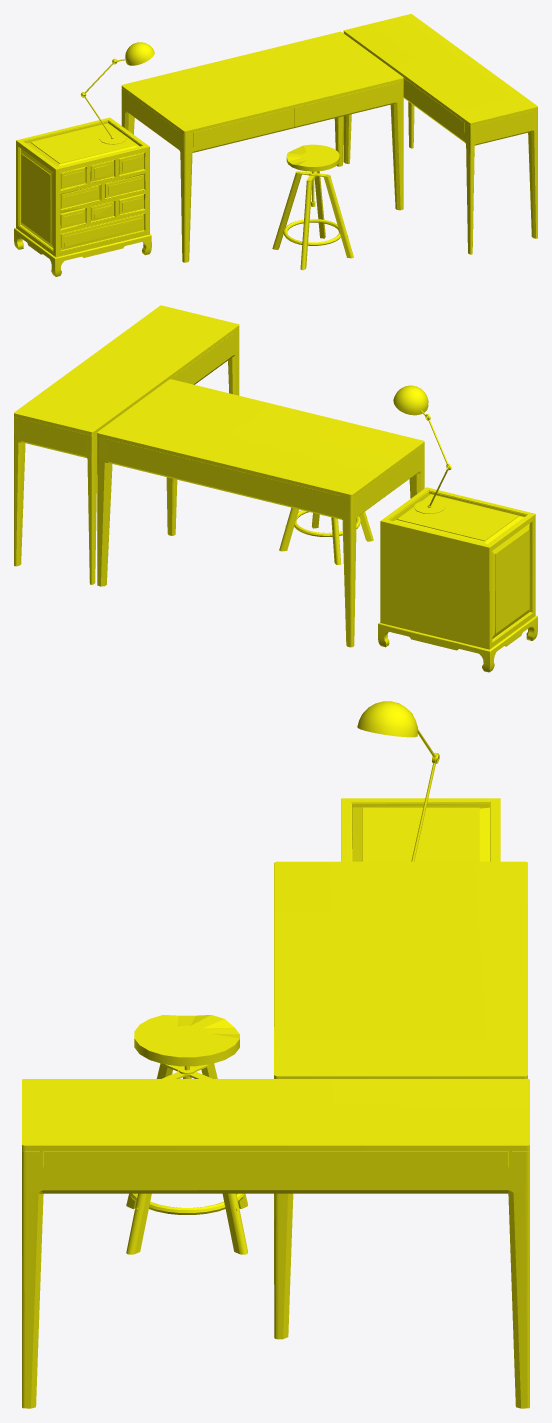
File: Table003.FBX
The picture shows the model from 3 angles, top to bottom: view 1: azimuth 30°, elevation 25°; view 2: azimuth 150°, elevation 25°; view 3: azimuth 270°, elevation 25°; orthographic projection. The views are drawn at different scales.
Parts seen in each view (by area): view 1: Table003; view 2: Table003; view 3: Table003.
Part boxes in pixels (<box>): Table003: <box>14,14,537,276</box>; Table003: <box>14,305,537,672</box>; Table003: <box>22,701,529,1408</box>.
Size of the model in its own units: 2.57 by 1.4 by 1.23.
